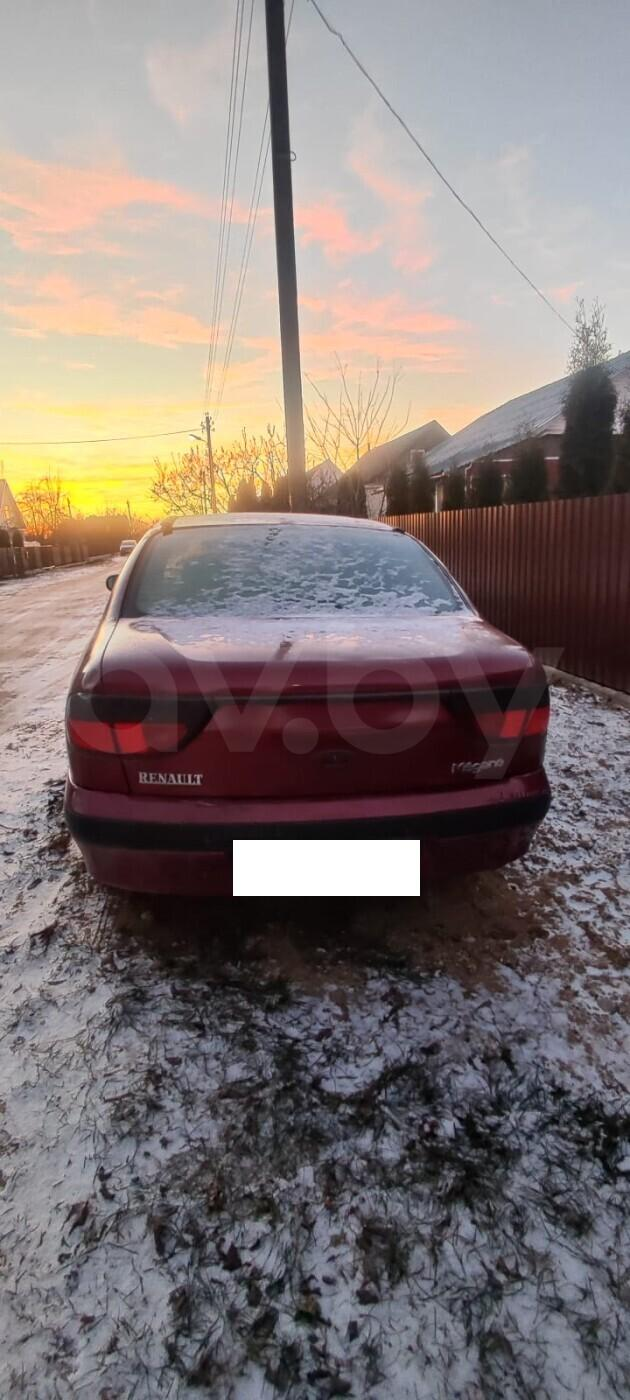Megane_1995-1999: (78, 496, 556, 914)
